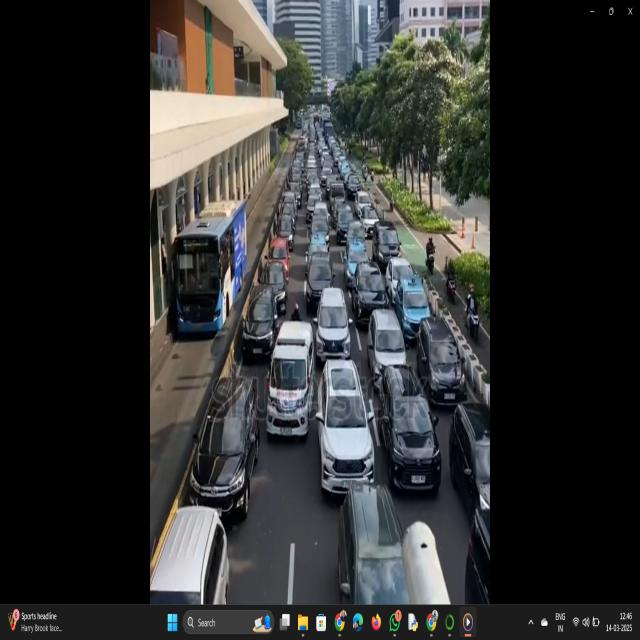Ambulance: (262, 310, 320, 432)
